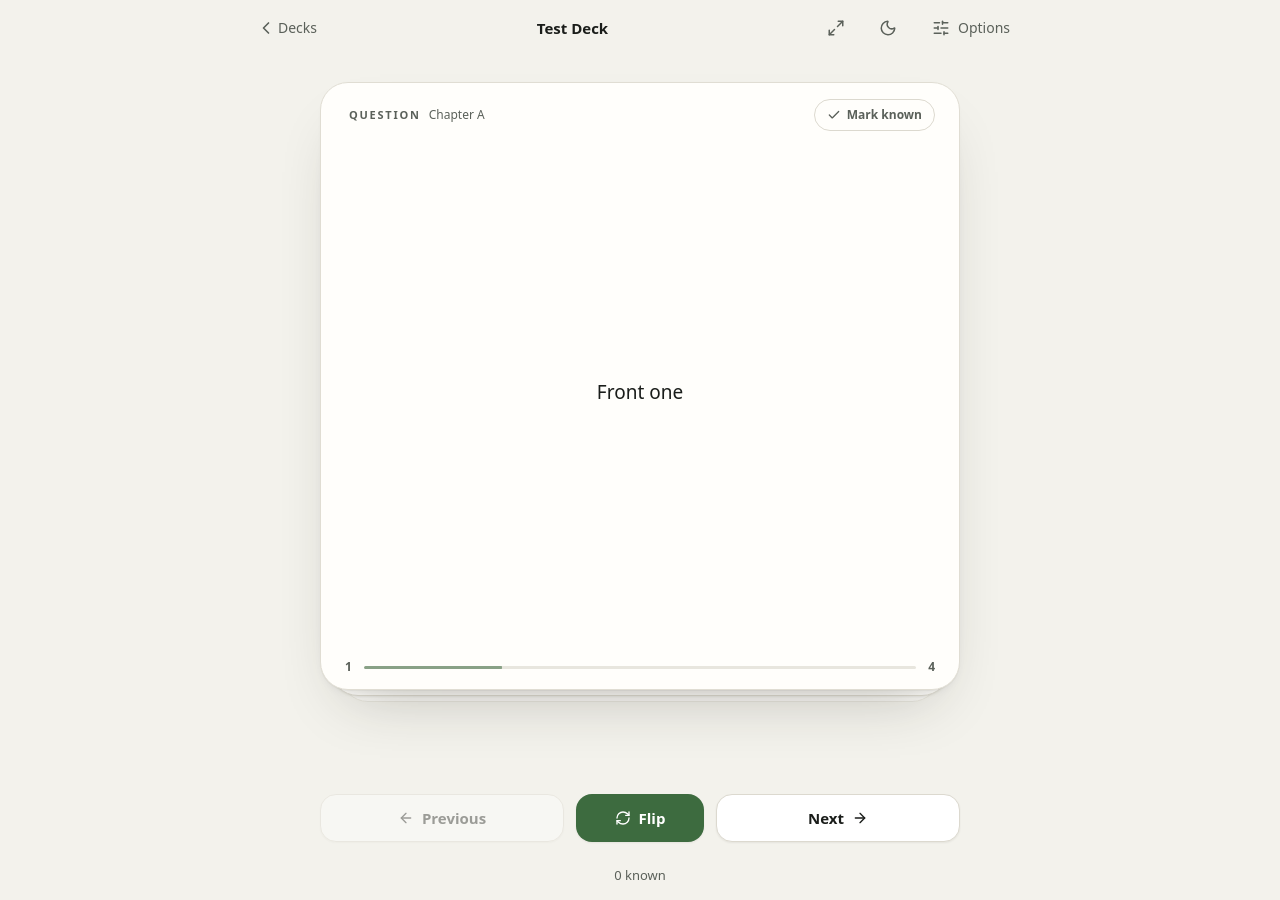
shuffle and restart › restarts back to the first card
The image size is (1280, 900).
Click the button "Next" at (838, 818), box top-left (716, 794), bottom-right (960, 842)
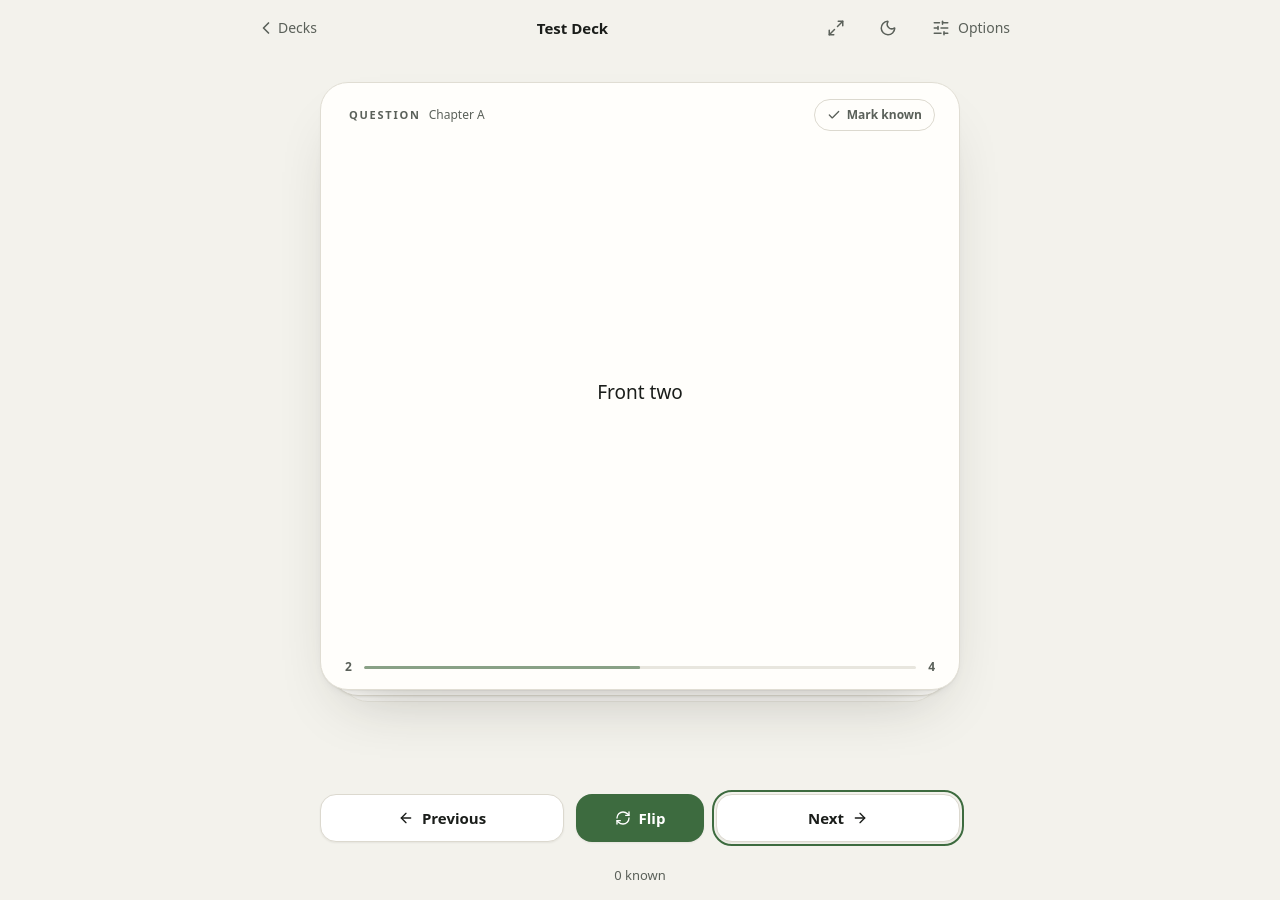
Click the button "Next" at (838, 818), box top-left (716, 794), bottom-right (960, 842)
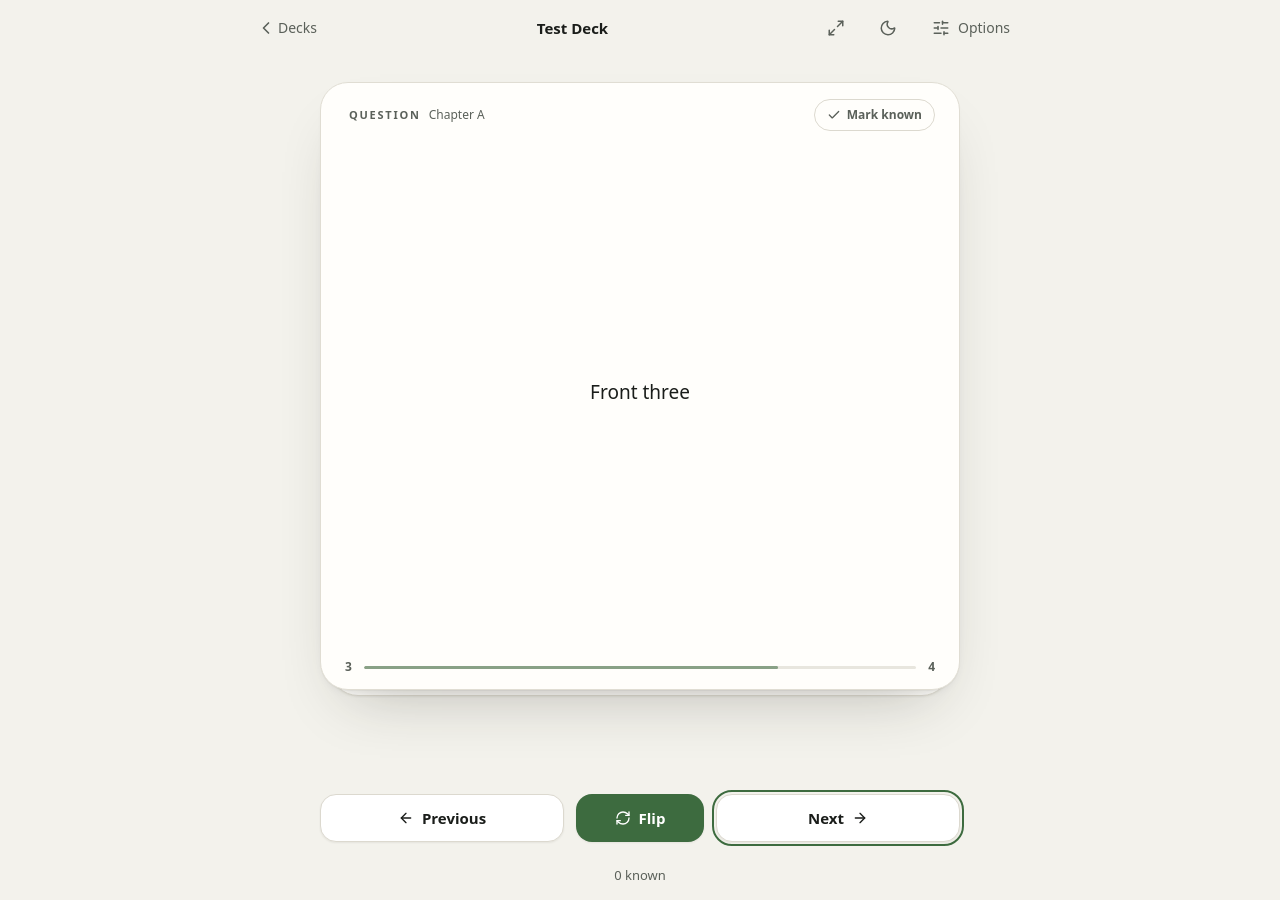
Click the button with aria-label "Study options" at (971, 28), box top-left (918, 6), bottom-right (1024, 50)
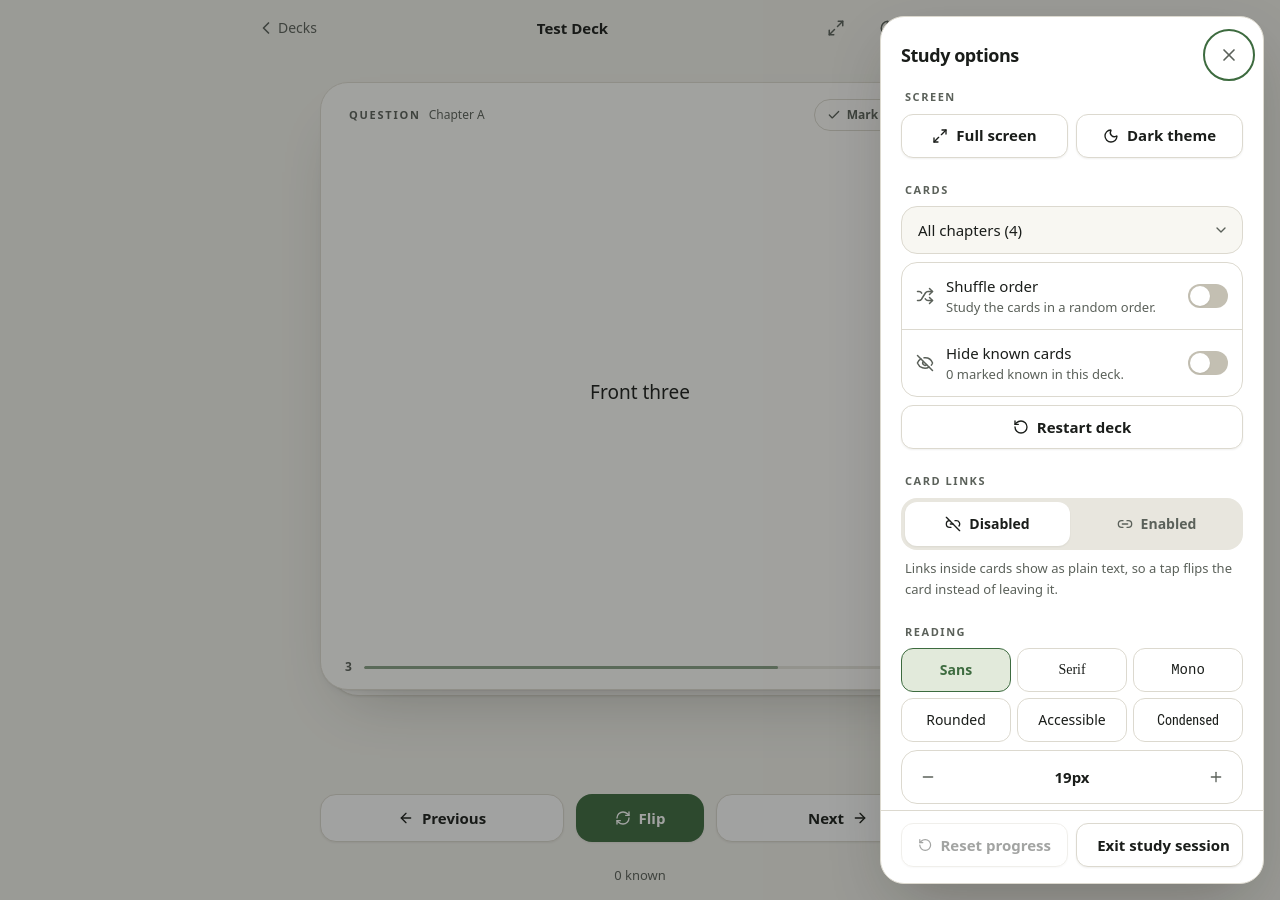
Click the button "Restart deck" at (1072, 427), box top-left (901, 405), bottom-right (1243, 449)
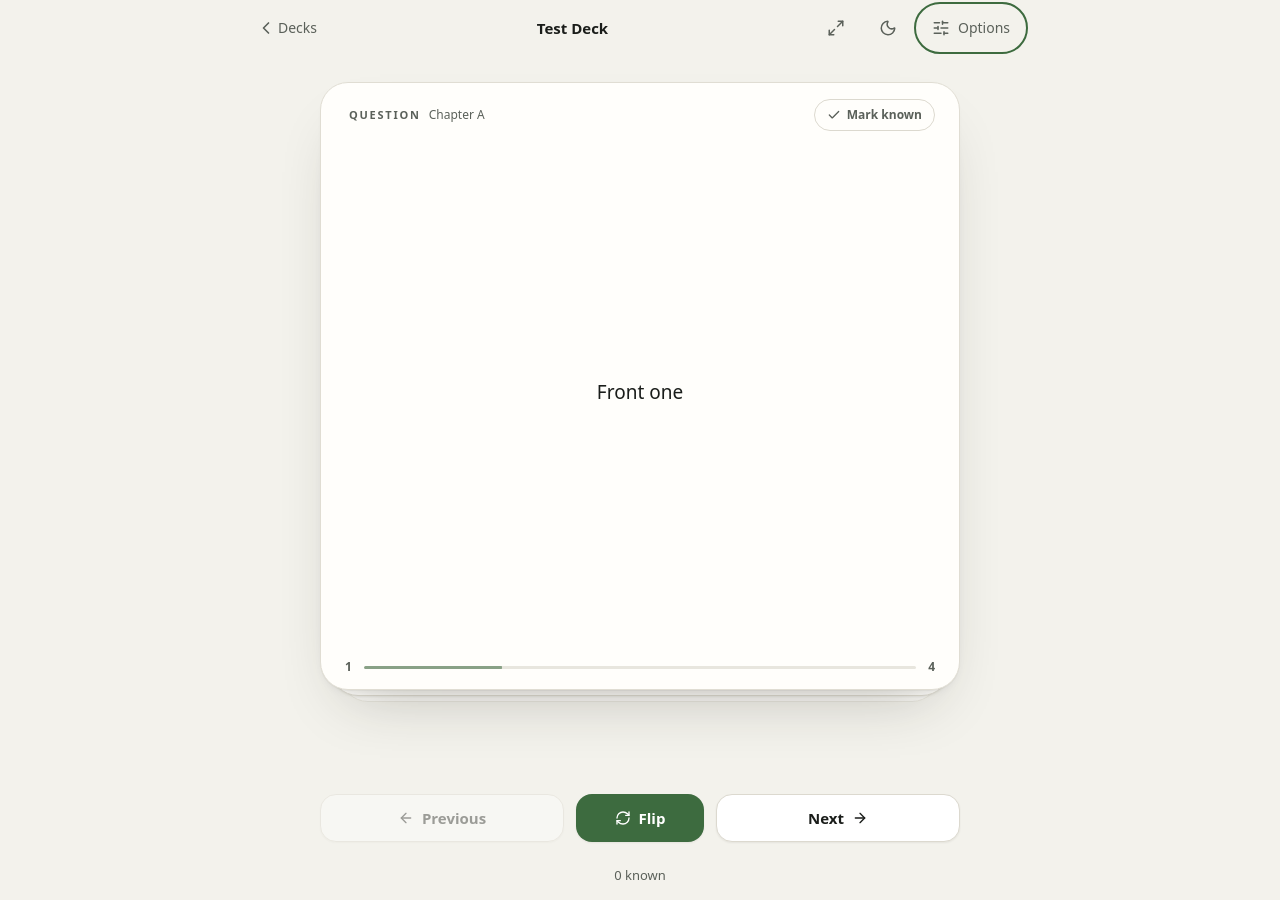
Expected: the number of elements with test id "card-flipper" is 1, top-left (320, 82), bottom-right (960, 690)
Expected: the text "Front one" is shown, top-left (597, 379), bottom-right (683, 405)
